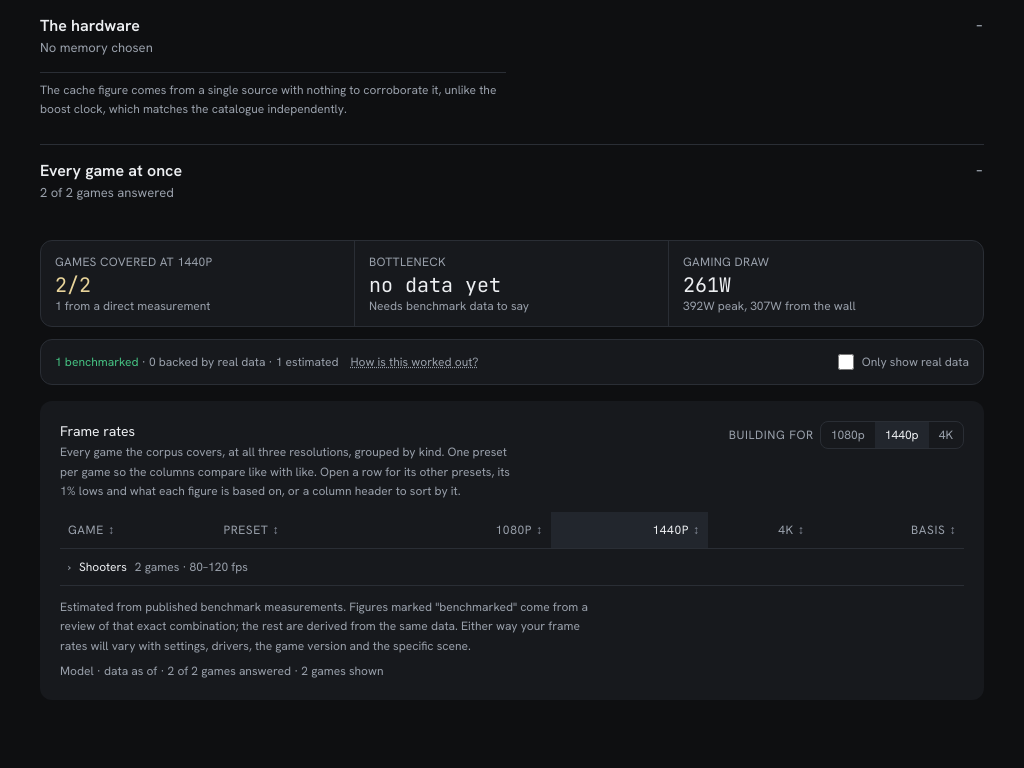
it: PerformanceScreen — the real-data filter wiring › the "Only show real data" checkbox actually filters the grid
(page scrolled)
Click the button "› Shooters 2 games · 80–120 fps": x=103, y=567 [68,555,956,579]
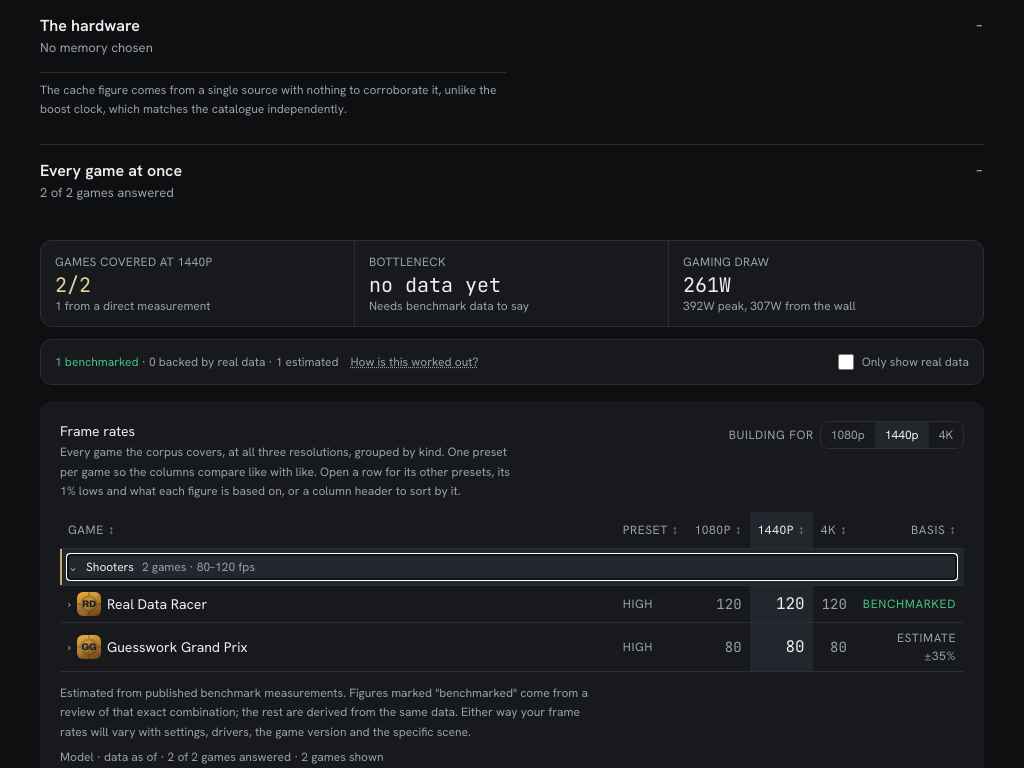
Check: the text "Real Data Racer" is shown, box [107,594,207,614]
Check: the text "Guesswork Grand Prix" is shown, box [107,637,248,657]
Click the checkbox labelled "Only show real data": x=846, y=362 [838,354,854,370]
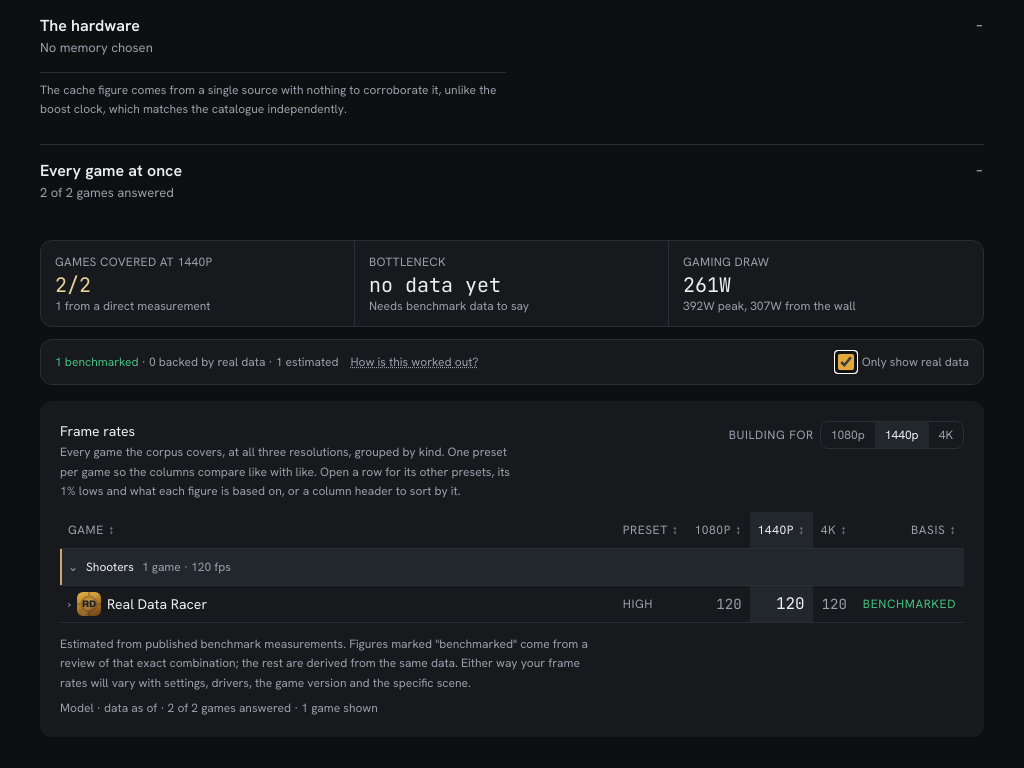
Check: the text "Real Data Racer" is shown, box [107,594,207,614]
Check: the button "Guesswork Grand Prix" is gone
